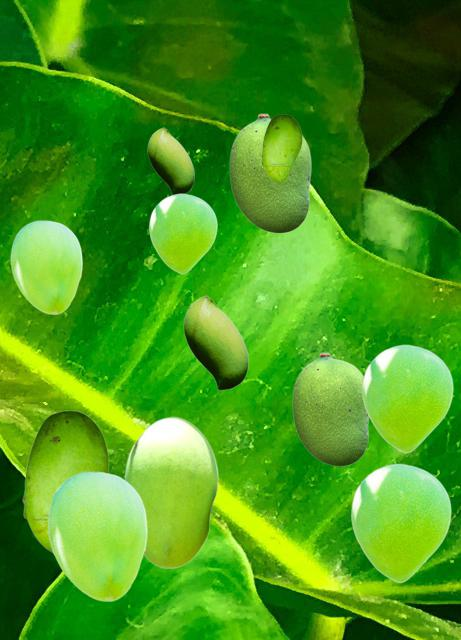green_mango: (124, 416, 217, 567), (47, 471, 146, 600), (22, 410, 108, 552), (351, 463, 450, 582), (362, 344, 452, 452), (229, 113, 310, 232), (292, 352, 369, 465), (10, 220, 81, 313), (183, 295, 247, 389), (149, 193, 216, 273), (147, 127, 193, 194), (261, 114, 301, 182)
